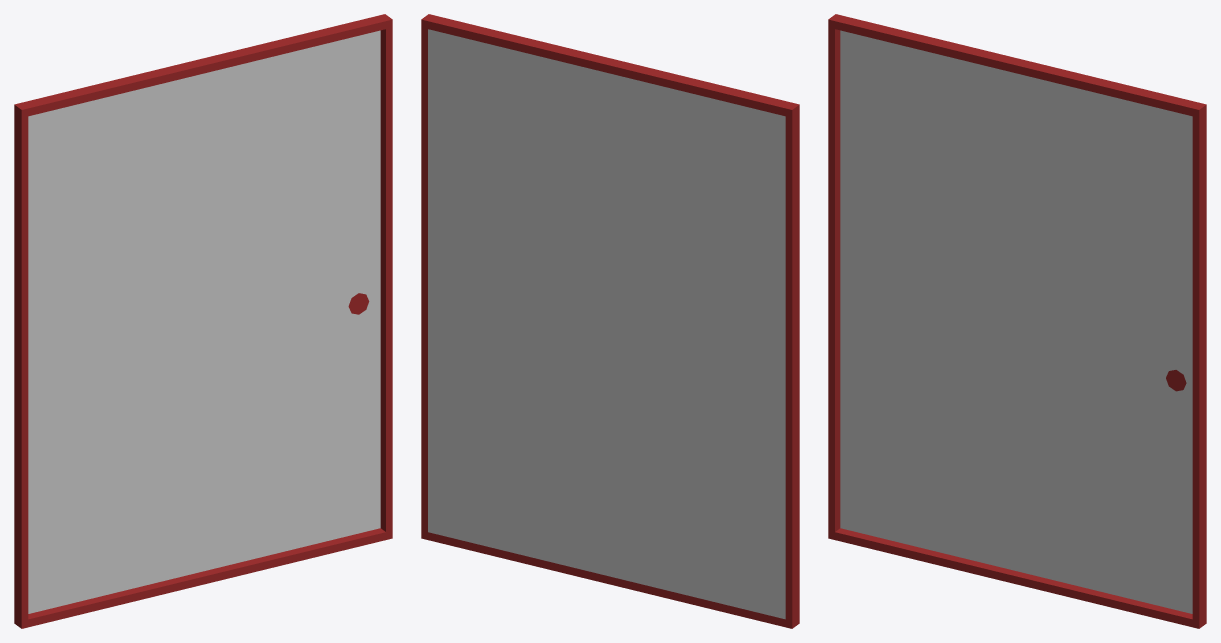
File: Asian_Prop_Building_Modular_Sliding_Screen_Door_01.FBX
The picture shows the model from 3 angles, left to right: view 1: azimuth 30°, elevation 25°; view 2: azimuth 150°, elevation 25°; view 3: azimuth 330°, elevation 25°; orthographic projection.
Visible parts, largest first — view 1: Asian_Prop_Building_Modular_Sliding_Screen_Door_01; view 2: Asian_Prop_Building_Modular_Sliding_Screen_Door_01; view 3: Asian_Prop_Building_Modular_Sliding_Screen_Door_01.
Boxes of the visible parts, <box> form: Asian_Prop_Building_Modular_Sliding_Screen_Door_01: <box>14,14,392,628</box>; Asian_Prop_Building_Modular_Sliding_Screen_Door_01: <box>421,14,799,628</box>; Asian_Prop_Building_Modular_Sliding_Screen_Door_01: <box>828,14,1206,628</box>.
Size of the model in its own units: 2607 by 3485 by 92.
